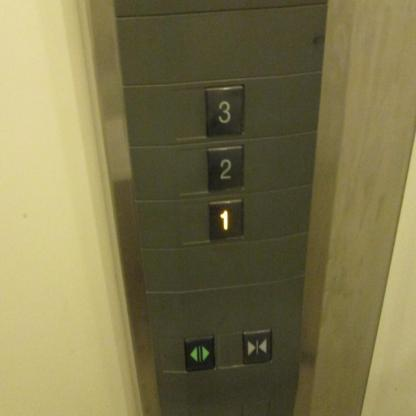1: (206, 196, 244, 242)
2: (206, 143, 245, 192)
3: (203, 83, 245, 136)
close: (240, 327, 274, 366)
open: (183, 333, 216, 373)
